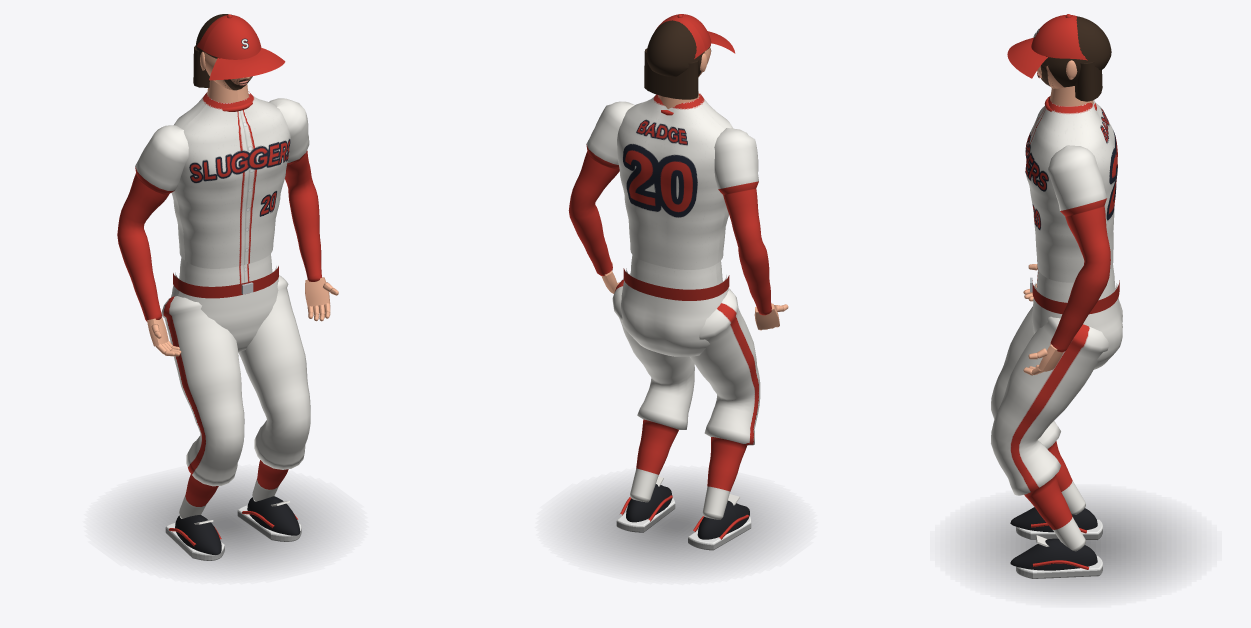
File: player_27_home.glb
3 renders of one model, left to right at view 1: azimuth 30°, elevation 25°; view 2: azimuth 150°, elevation 25°; view 3: azimuth 270°, elevation 25°, orthographic. The views are drawn at different scales.
Parts seen in each view (by area): view 1: player_27_home, object 31, object 33, object 2; view 2: player_27_home, object 29, object 30, object 31; view 3: player_27_home, object 31, object 29, object 33, object 35, object 30, object 2.
Part boxes in pixels (x1,y1,x2,y2): player_27_home: (116,91,334,570); object 31: (197,15,261,59); object 33: (209,47,285,80); object 2: (207,80,248,102); player_27_home: (568,93,784,570); object 29: (646,20,710,76); object 30: (644,48,698,99); object 31: (654,14,711,58); player_27_home: (965,96,1186,592); object 31: (1031,14,1087,60); object 29: (1046,16,1111,70); object 33: (1007,37,1047,78); object 35: (1037,58,1099,88); object 30: (1075,61,1102,101); object 2: (1050,86,1093,106).
Bounding box in the file's own units: 3.3 × 6.1 × 3.3.
27 materials, 5 textured.
